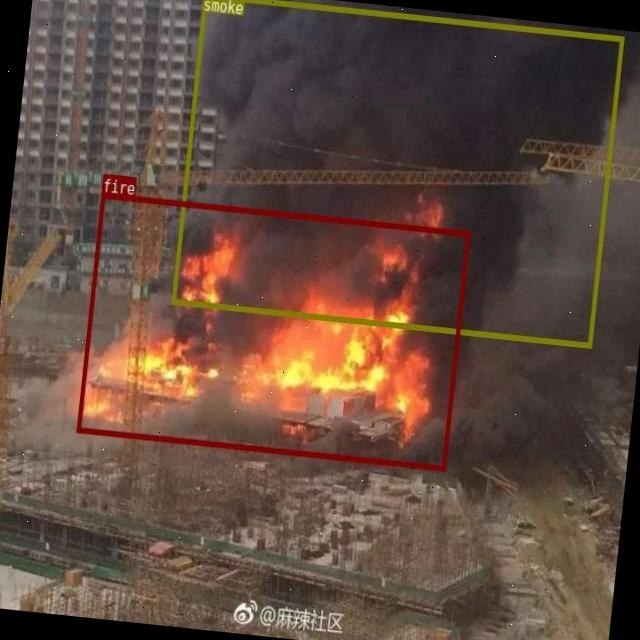fire: (76, 190, 469, 470)
smoke: (170, 0, 622, 346)
